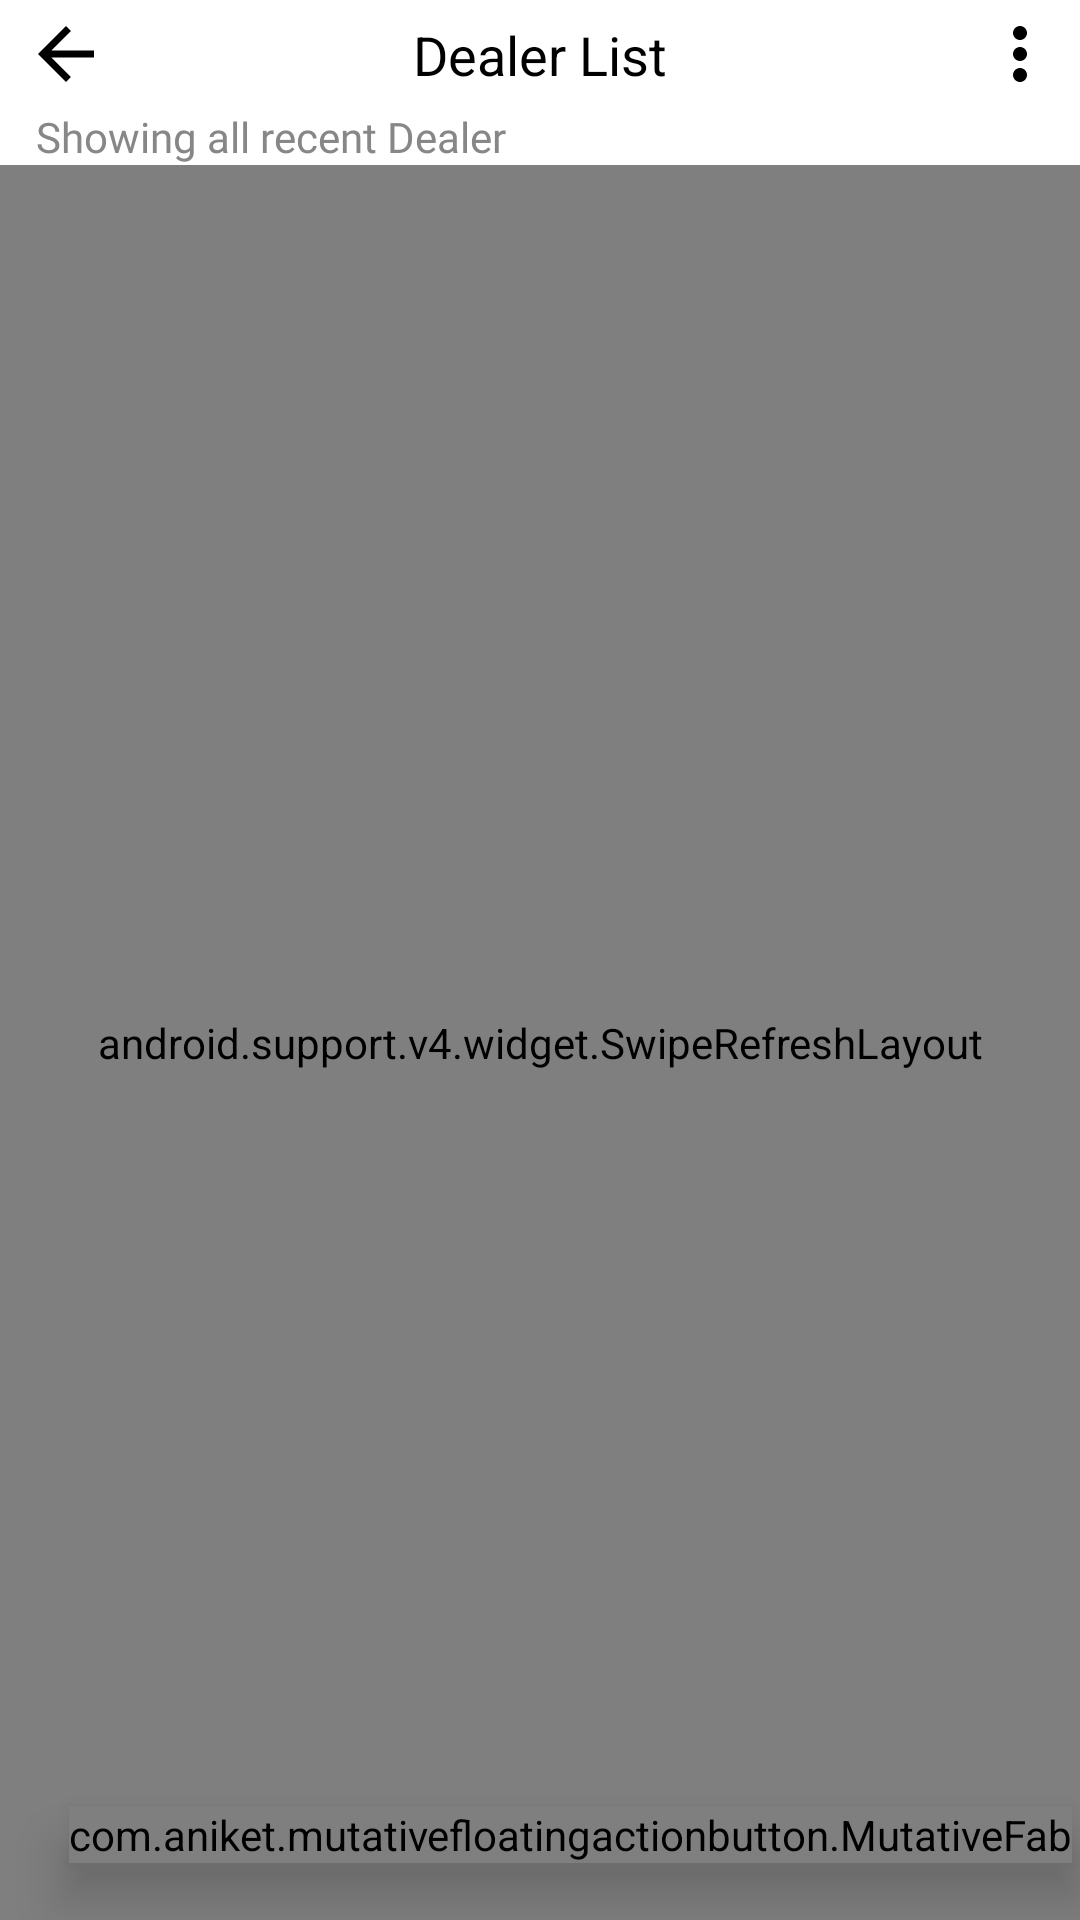

Icons on this 1080px x 1920px Android screen, each with the point to tap as point (x, y):
arrow back: point (66, 54)
more: point (1020, 54)
